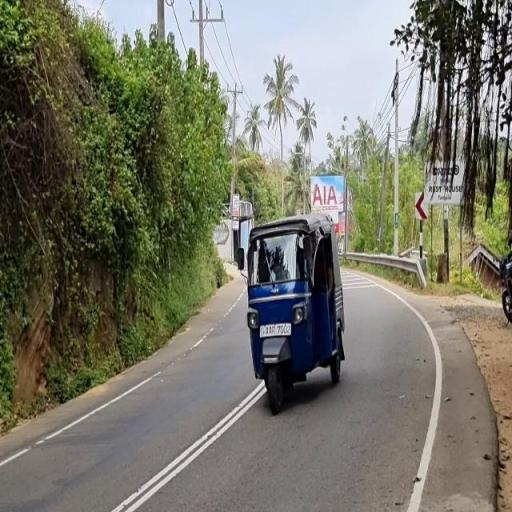double_white_line: (110, 382, 267, 512)
